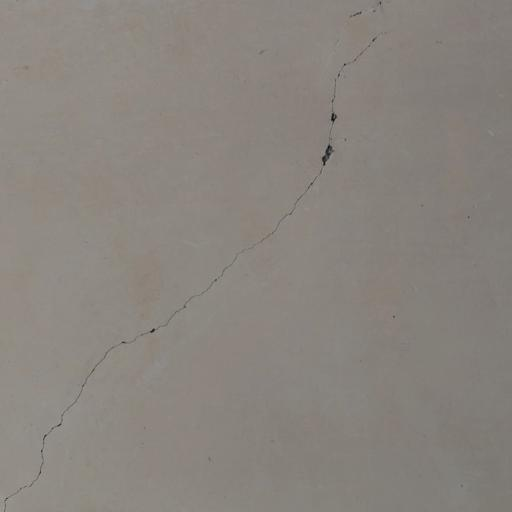minor_crack: (0, 0, 386, 512)
